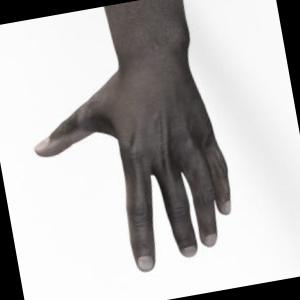paper: (34, 0, 230, 271)
